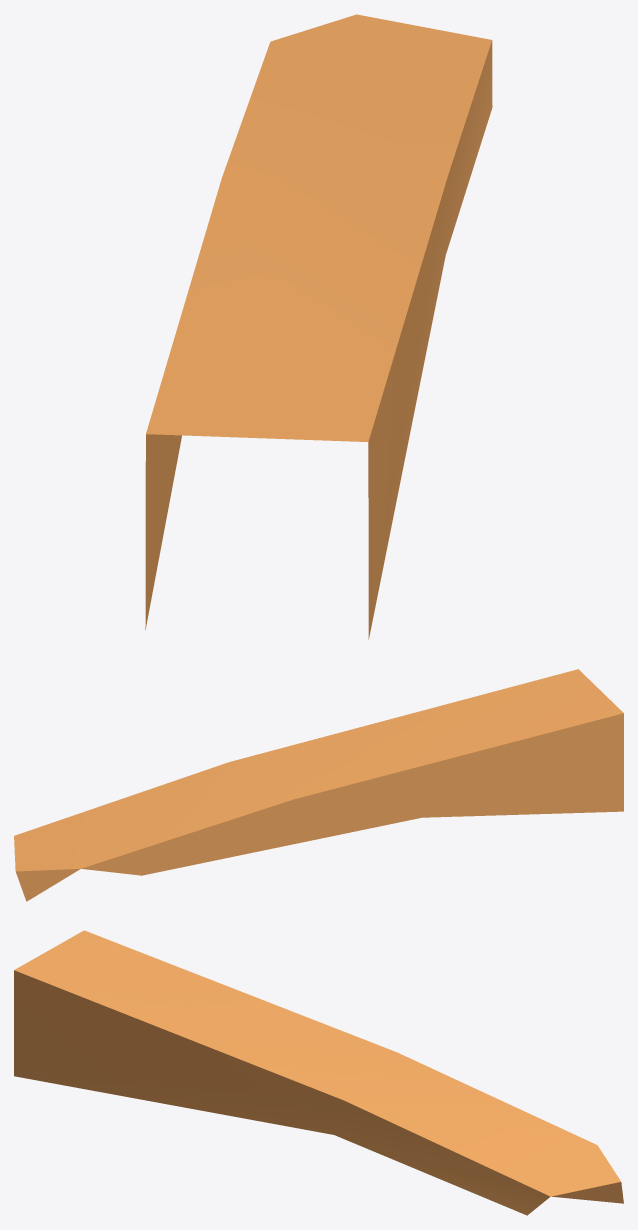
The picture shows the model from 3 angles, top to bottom: view 1: azimuth 30°, elevation 25°; view 2: azimuth 150°, elevation 25°; view 3: azimuth 270°, elevation 25°; orthographic projection. The views are drawn at different scales.
Bounding box in the file's own units: 0.3508 × 0.0849 × 0.443.
